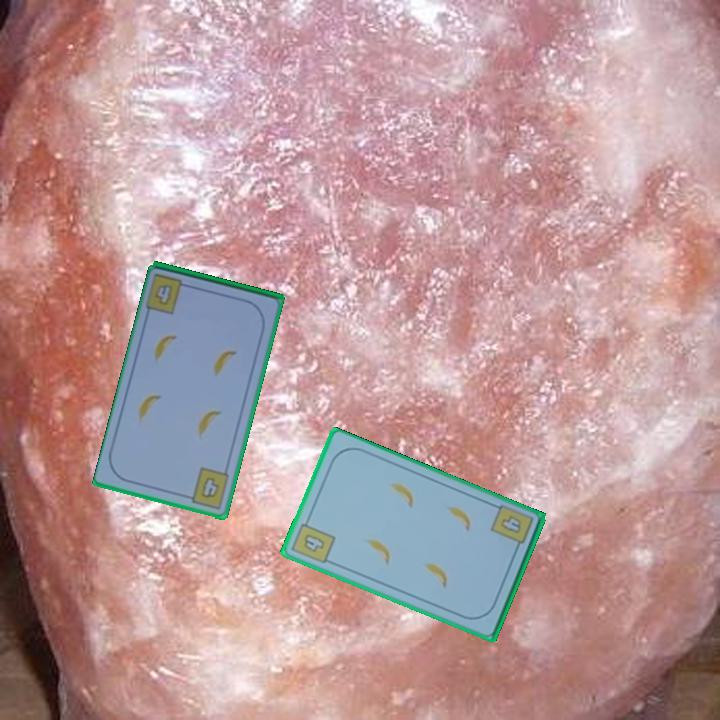4b: (288, 514, 338, 567), (182, 464, 232, 512), (497, 512, 524, 537), (152, 281, 176, 308)
